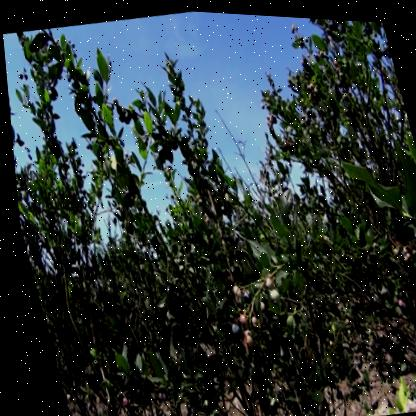intermediate: (235, 327, 251, 347), (231, 308, 245, 326)
mature: (236, 283, 250, 303), (224, 318, 237, 335)
young: (257, 270, 274, 287), (262, 283, 278, 301)
